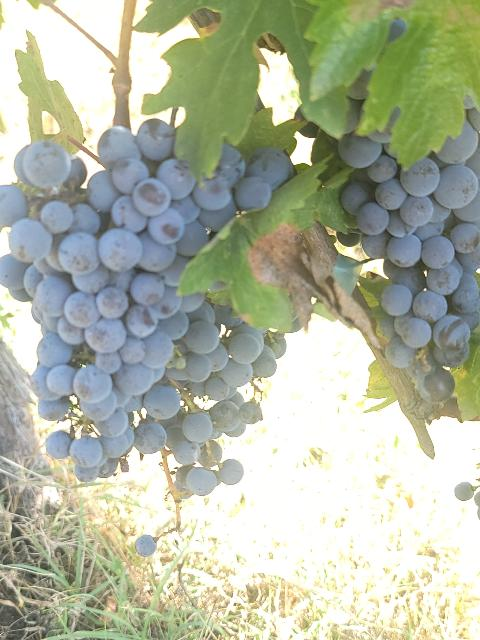grapes: (0, 119, 292, 480), (338, 122, 480, 402), (135, 305, 286, 496)
